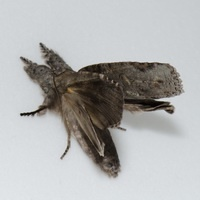insect: (20, 43, 182, 176)
